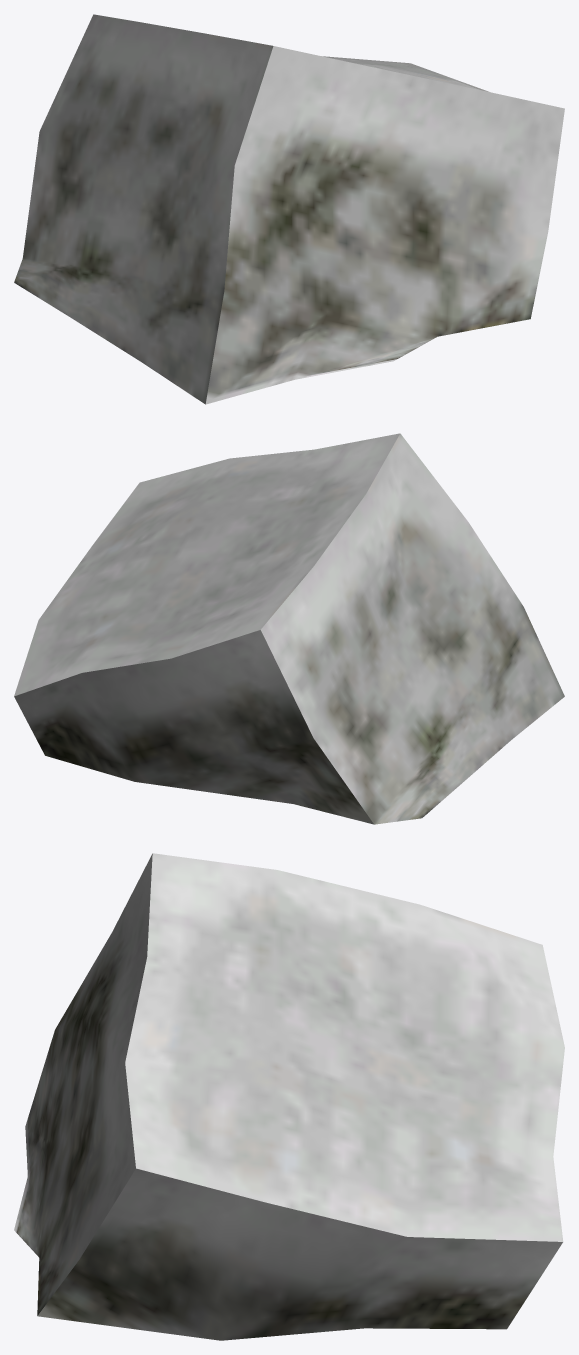
Rendered from ob-bigstone03.fbx.
3 views of the same model, one above another, from view 1: azimuth 30°, elevation 25°; view 2: azimuth 150°, elevation 25°; view 3: azimuth 270°, elevation 25° (orthographic). The views are drawn at different scales.
Parts seen in each view (by area): view 1: ob-bigstone03; view 2: ob-bigstone03; view 3: ob-bigstone03.
Part boxes in pixels (x1,y1,x2,y2): ob-bigstone03: [14, 14, 564, 404]; ob-bigstone03: [14, 433, 564, 824]; ob-bigstone03: [14, 853, 564, 1340].
Bounding box in the file's own units: 4.16 × 2.71 × 3.93.
